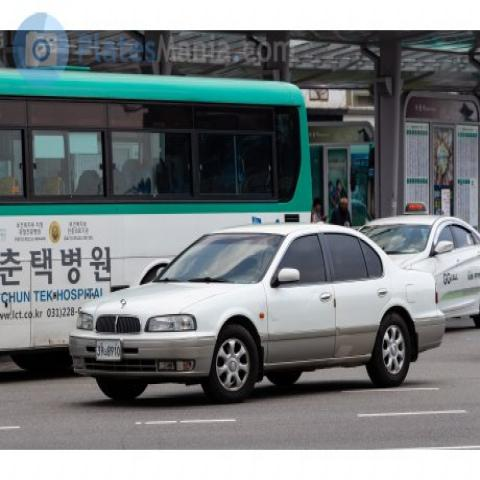LP: (89, 327, 133, 368)
